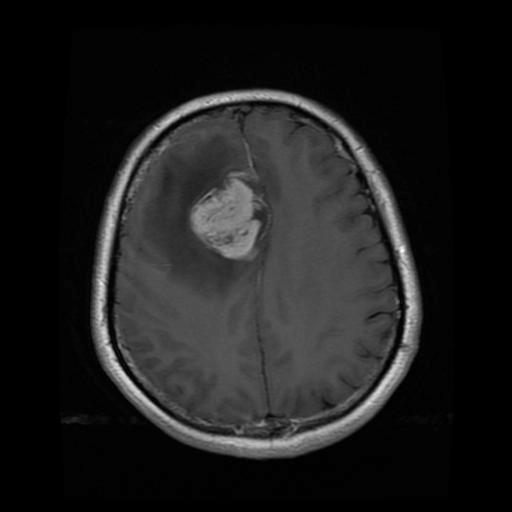Tumour-Meningioma: (175, 163, 309, 306)
